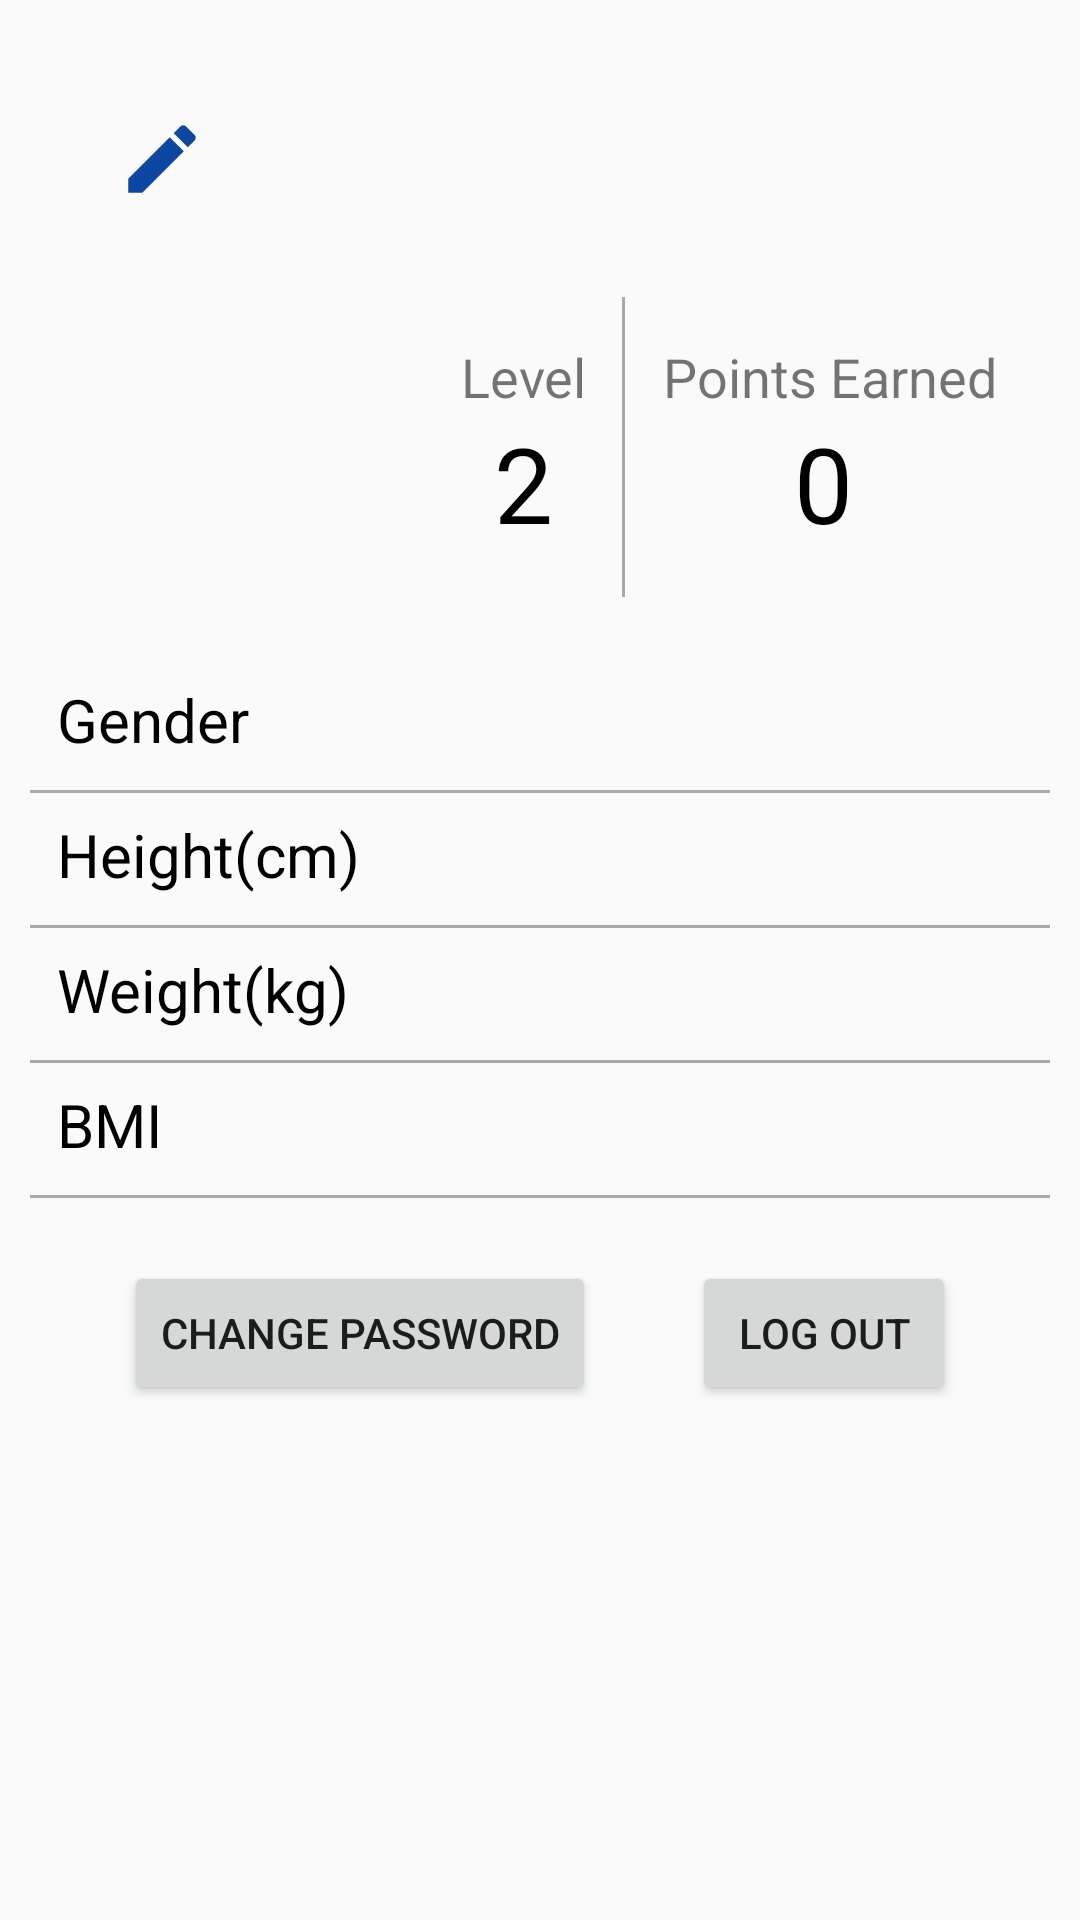

Screen size 1080 x 1920. Icon name, then its center in pixels as (x,y):
Edit Button: (162,159)
